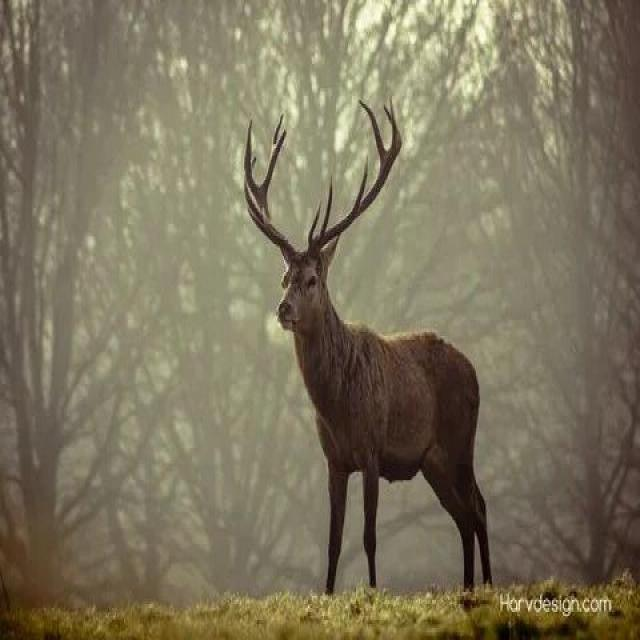deer: (222, 104, 506, 612)
